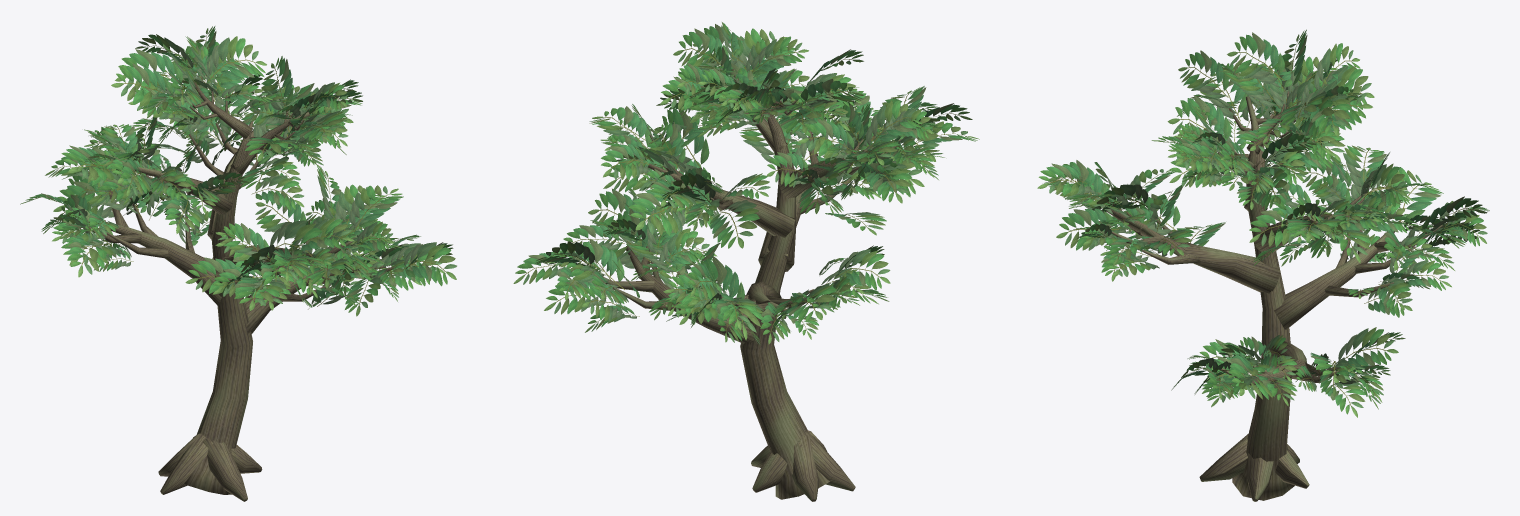
File: youngtree.glb
3 renders of one model, left to right at view 1: azimuth 30°, elevation 25°; view 2: azimuth 150°, elevation 25°; view 3: azimuth 270°, elevation 25°, orthographic. The views are drawn at different scales.
Visible parts, largest first — view 1: leaflets, rainwood bark; view 2: leaflets, rainwood bark; view 3: leaflets, rainwood bark.
Boxes of the visible parts, left/top/right/bottom form: leaflets: left=20, top=26, right=456, bottom=316; rainwood bark: left=86, top=73, right=395, bottom=501; leaflets: left=513, top=22, right=979, bottom=345; rainwood bark: left=584, top=69, right=901, bottom=501; leaflets: left=1037, top=29, right=1489, bottom=417; rainwood bark: left=1106, top=91, right=1442, bottom=501.
Size of the model in its own units: 3.85 by 4.25 by 4.18.
Materials: 2 (2 with a texture image).
